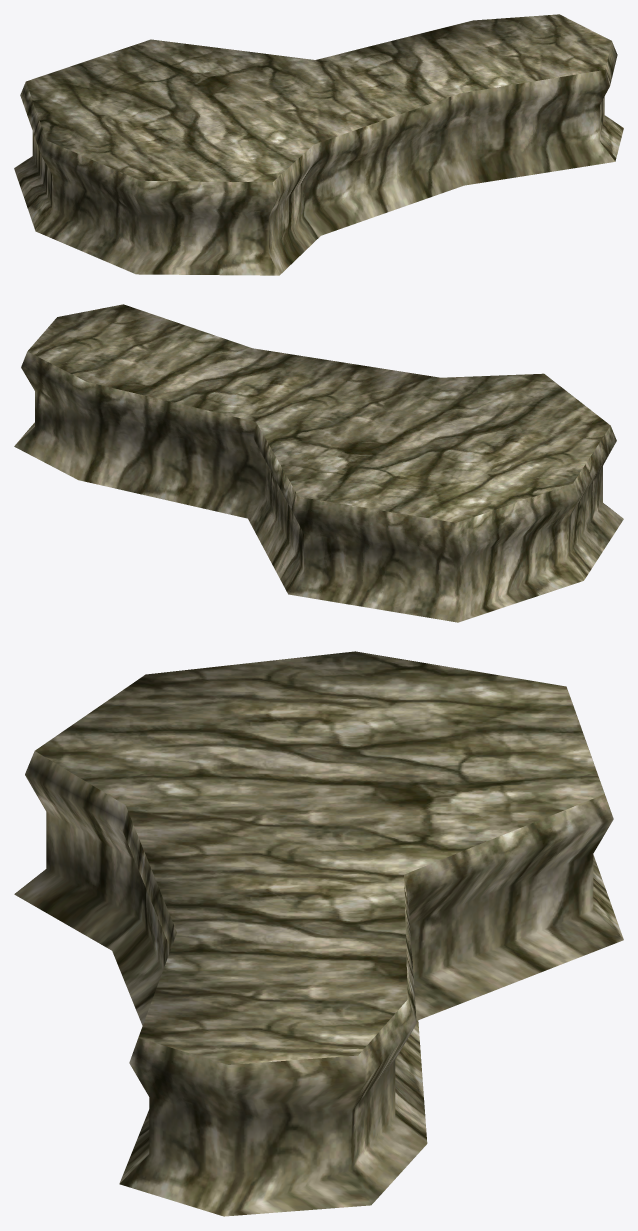
The model's file is CB_NEWPLAYSURFACE_CB_PLAYSURFACE122.fbx.
The picture shows the model from 3 angles, top to bottom: view 1: azimuth 30°, elevation 25°; view 2: azimuth 150°, elevation 25°; view 3: azimuth 270°, elevation 25°; orthographic projection. The views are drawn at different scales.
Parts seen in each view (by area): view 1: CB_NEWPLAYSURFACE_CB_PLAYSURFACE122; view 2: CB_NEWPLAYSURFACE_CB_PLAYSURFACE122; view 3: CB_NEWPLAYSURFACE_CB_PLAYSURFACE122.
Part boxes in pixels (box(x1,y1,x2,y2)): CB_NEWPLAYSURFACE_CB_PLAYSURFACE122: box(14, 14, 623, 275); CB_NEWPLAYSURFACE_CB_PLAYSURFACE122: box(14, 304, 623, 622); CB_NEWPLAYSURFACE_CB_PLAYSURFACE122: box(14, 651, 623, 1216).
Bounding box in the file's own units: 188624 × 29258 × 112961.
Materials: 2 (2 with a texture image).
